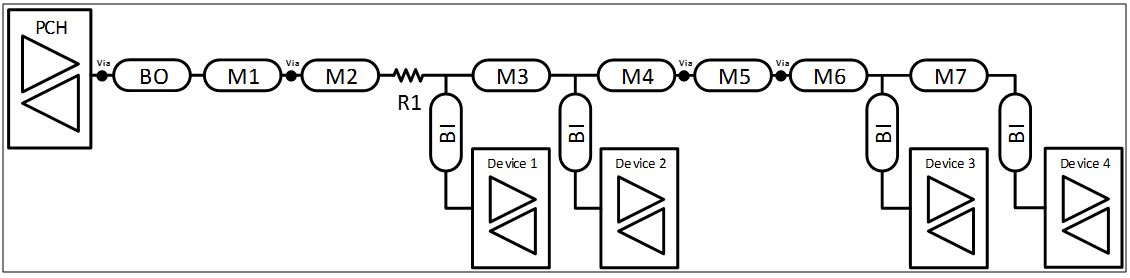circle: (774, 66, 787, 84), (677, 68, 691, 83), (284, 68, 297, 84), (96, 68, 109, 82)
oval: (859, 91, 901, 175), (992, 90, 1034, 174), (553, 88, 595, 172), (423, 90, 465, 174), (112, 53, 193, 96), (201, 54, 282, 97), (299, 54, 380, 97), (471, 55, 552, 98), (596, 53, 677, 96), (691, 54, 772, 97), (788, 53, 869, 96), (907, 53, 988, 96)
rectangle: (1, 4, 95, 159), (466, 142, 553, 270), (595, 142, 681, 270), (907, 145, 993, 273), (1040, 140, 1126, 268)
triangle: (18, 71, 84, 137), (19, 33, 83, 95), (484, 172, 538, 224), (487, 205, 541, 257), (612, 172, 666, 224), (618, 204, 672, 256), (924, 174, 978, 226), (926, 206, 980, 258), (1059, 172, 1113, 224), (1061, 202, 1115, 254)
